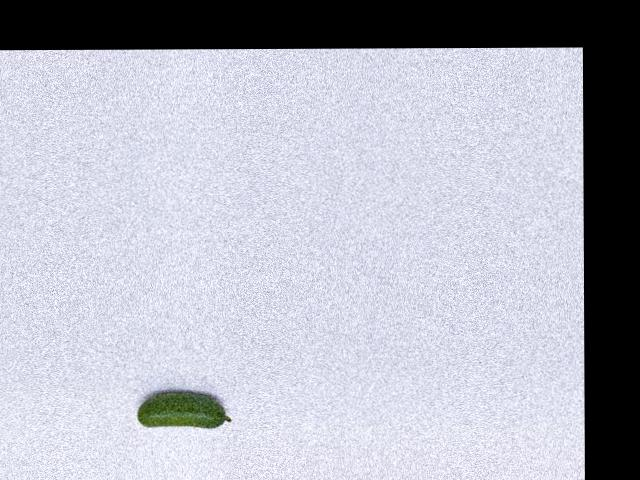cucumber: (136, 391, 230, 428)
